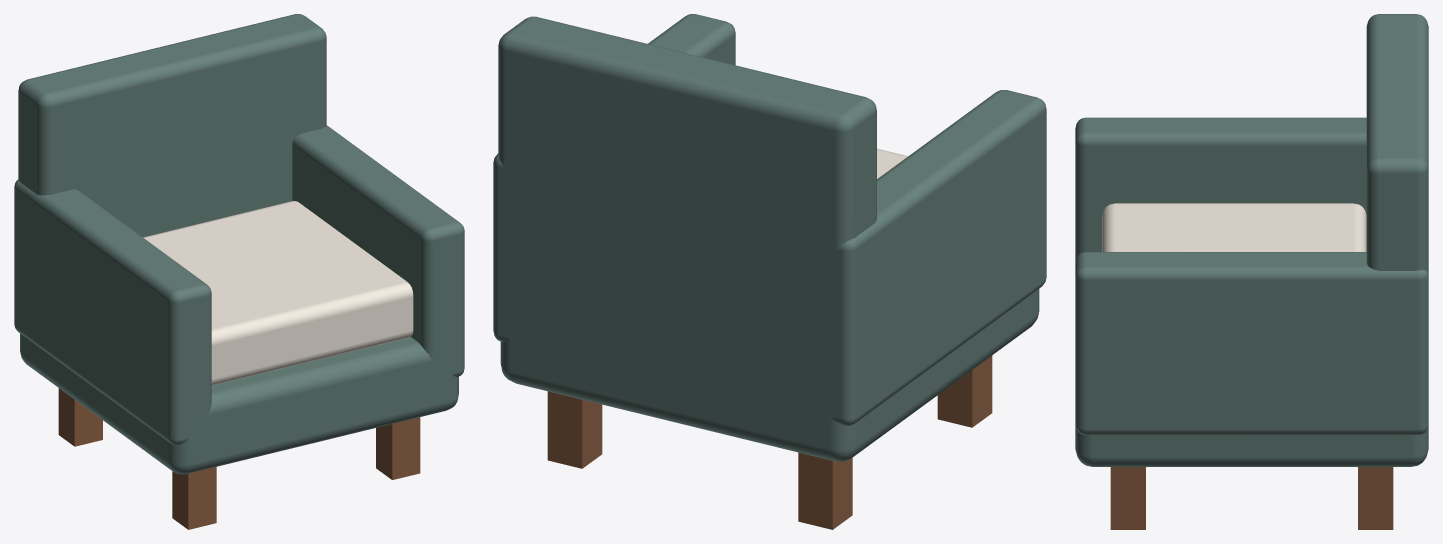
File: armchair.glb
3 views of the same model, side by side, from view 1: azimuth 30°, elevation 25°; view 2: azimuth 150°, elevation 25°; view 3: azimuth 270°, elevation 25° (orthographic). The views are drawn at different scales.
Size of the model in its own units: 0.84 by 0.955 by 0.8.
